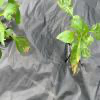Bell_pepper leaf spot: (11, 35, 34, 56), (70, 39, 81, 80), (3, 3, 22, 25), (56, 0, 75, 17), (80, 41, 92, 59)
